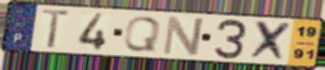3: (211, 17, 249, 61)
4: (75, 11, 109, 52)
N: (160, 14, 207, 57)
Q: (121, 15, 164, 53)
T: (39, 8, 73, 50)
X: (246, 19, 295, 63)
